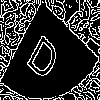D: (25, 25, 66, 83)
